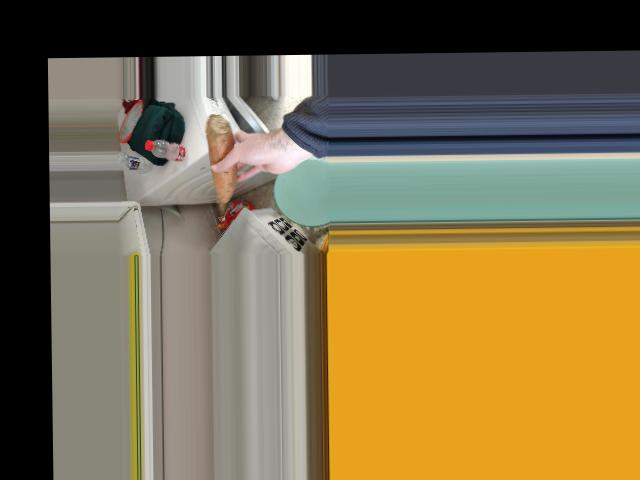sweet_potato: (214, 127, 236, 202)
